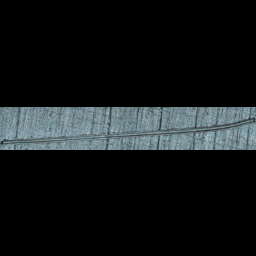d: (0, 114, 255, 145)
